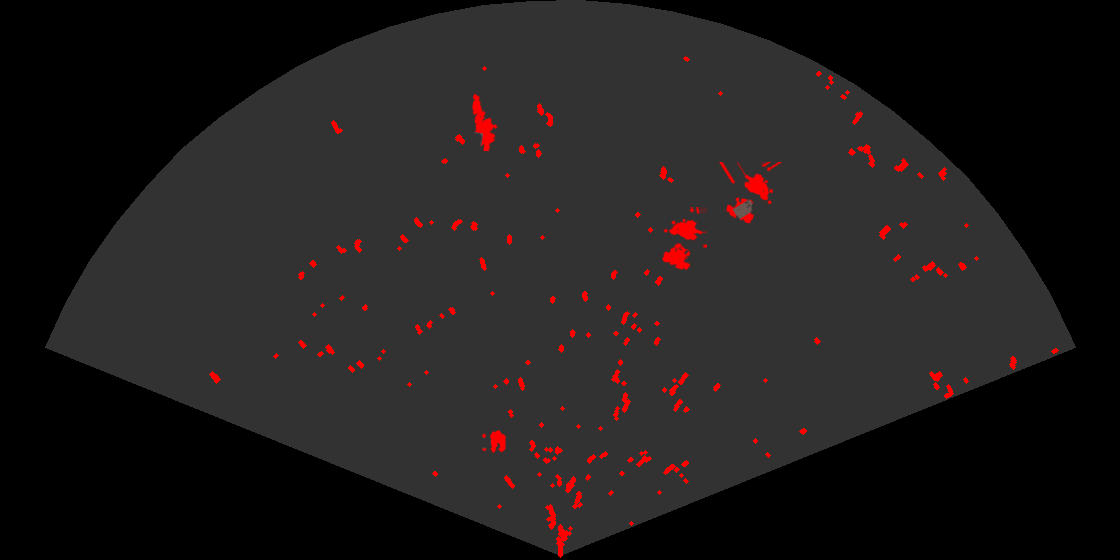ball: (480, 429, 507, 455)
cage: (717, 162, 784, 225), (660, 207, 707, 272)
frogman: (471, 92, 499, 151)
